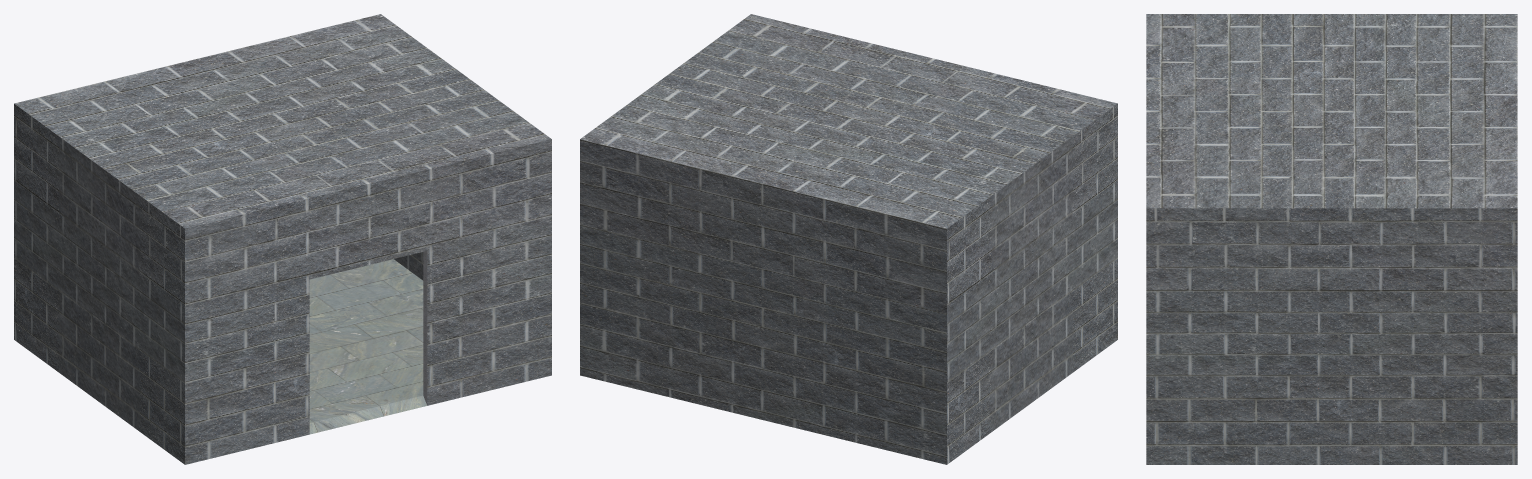
Rendered from room.fbx.
3 renders of one model, left to right at view 1: azimuth 30°, elevation 25°; view 2: azimuth 150°, elevation 25°; view 3: azimuth 270°, elevation 25°, orthographic. The views are drawn at different scales.
Visible parts, largest first — view 1: room; view 2: room; view 3: room.
Part boxes in pixels (x1,y1,x2,y2): room: (14, 14, 551, 464); room: (580, 14, 1117, 464); room: (1146, 14, 1517, 464).
Bounding box in the file's own units: 5200 × 3200 × 4200.
Materials: 4 (4 with a texture image).
